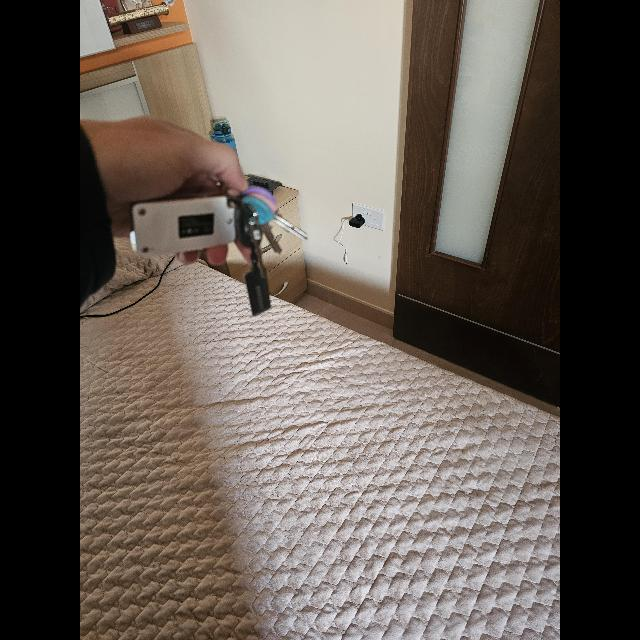Keys: (128, 188, 302, 314)
